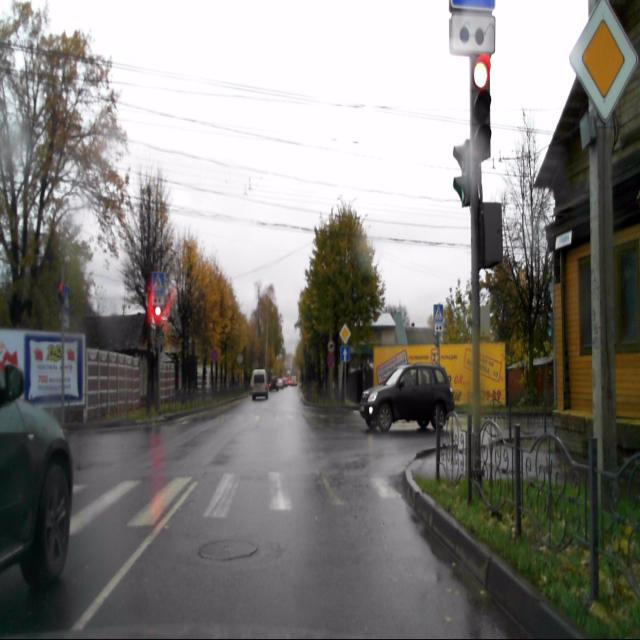road sign: (570, 0, 638, 121), (450, 15, 496, 53), (152, 272, 164, 294)
